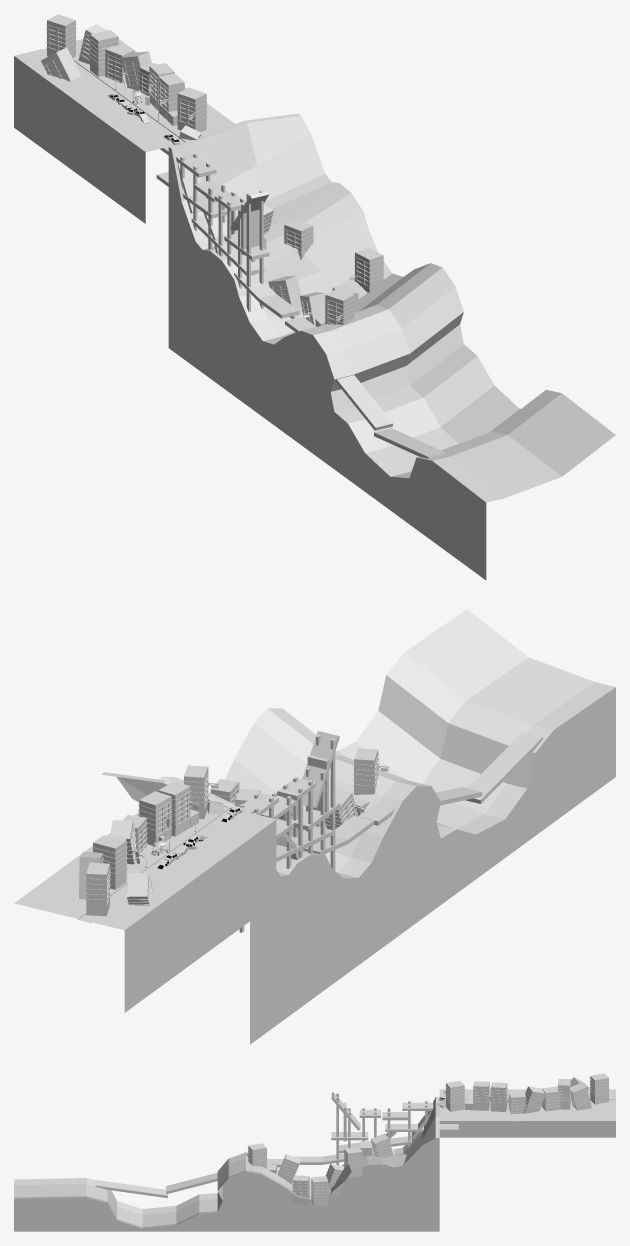
Rendered from TimLee_sinkhole.fbx.
The picture shows the model from 3 angles, top to bottom: view 1: azimuth 30°, elevation 25°; view 2: azimuth 150°, elevation 25°; view 3: azimuth 270°, elevation 25°; orthographic projection. The views are drawn at different scales.
Parts seen in each view (by area): view 1: Plane, Floor, Cube.032, Apartment_A.009, Apartment_A.012, Apartment_A.008, Apartment_A.017, Apartment_A.005, Apartment_A, Apartment_A.006, Apartment_A.014, Apartment_A.003 (+1 smaller); view 2: Plane, Floor, Cube.032, Apartment_A.001, Apartment_A.008, Apartment_A.005, Apartment_A.017, Apartment_A, Apartment_A.009, Apartment_A.006, Apartment_A.010, Apartment_A.003; view 3: Plane, Floor, Cube.032, Apartment_A.008, Apartment_A.009, Apartment_A.012, Apartment_A.001, Apartment_A.011, Apartment_A, Apartment_A.007, Apartment_A.003, Apartment_A.017 (+8 smaller).
Part boxes in pixels (x1,y1,x2,y2): Plane: (168, 113, 615, 580); Floor: (14, 39, 234, 223); Cube.032: (156, 147, 445, 458); Apartment_A.009: (177, 87, 207, 132); Apartment_A.012: (349, 248, 384, 292); Apartment_A.008: (46, 14, 76, 57); Apartment_A.017: (324, 289, 354, 324); Apartment_A.005: (89, 30, 118, 76); Apartment_A: (158, 73, 185, 120); Apartment_A.006: (41, 47, 81, 81); Apartment_A.014: (283, 219, 313, 260); Apartment_A.003: (120, 51, 151, 90); Plane: (101, 609, 615, 1044); Floor: (14, 806, 276, 1012); Cube.032: (239, 731, 543, 932); Apartment_A.001: (138, 791, 172, 846); Apartment_A.008: (85, 862, 110, 916); Apartment_A.005: (92, 835, 126, 889); Apartment_A.017: (353, 748, 389, 794); Apartment_A: (158, 781, 199, 836); Apartment_A.009: (183, 765, 218, 818); Apartment_A.006: (127, 873, 153, 905); Apartment_A.010: (325, 787, 364, 829); Apartment_A.003: (110, 820, 139, 864); Plane: (14, 1097, 439, 1231); Floor: (439, 1089, 615, 1137); Cube.032: (95, 1092, 458, 1198); Apartment_A.008: (589, 1073, 609, 1104); Apartment_A.009: (444, 1081, 464, 1111); Apartment_A.012: (311, 1176, 328, 1206); Apartment_A.001: (490, 1082, 507, 1111); Apartment_A.011: (292, 1175, 309, 1205); Apartment_A: (473, 1081, 489, 1110); Apartment_A.007: (570, 1082, 591, 1110); Apartment_A.003: (523, 1086, 545, 1113); Apartment_A.017: (246, 1143, 267, 1174).
Bounding box in the file's own units: 25928 × 38605 × 132529.
Materials: 16 (1 with a texture image).
